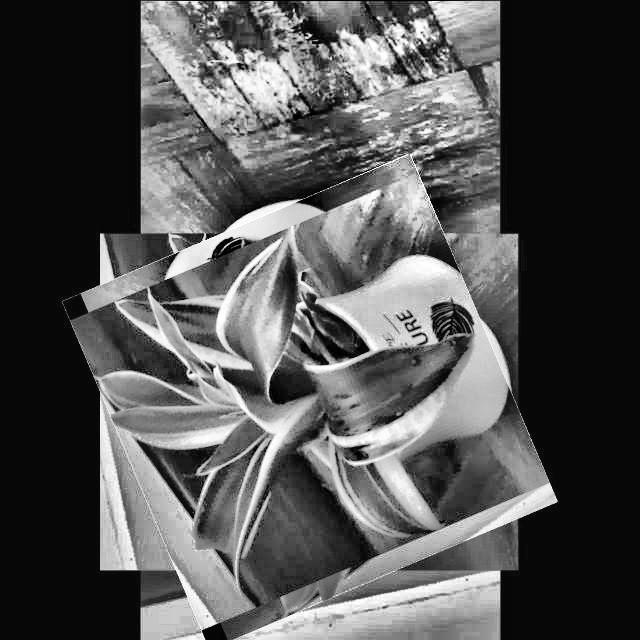plants: (90, 183, 528, 620)
